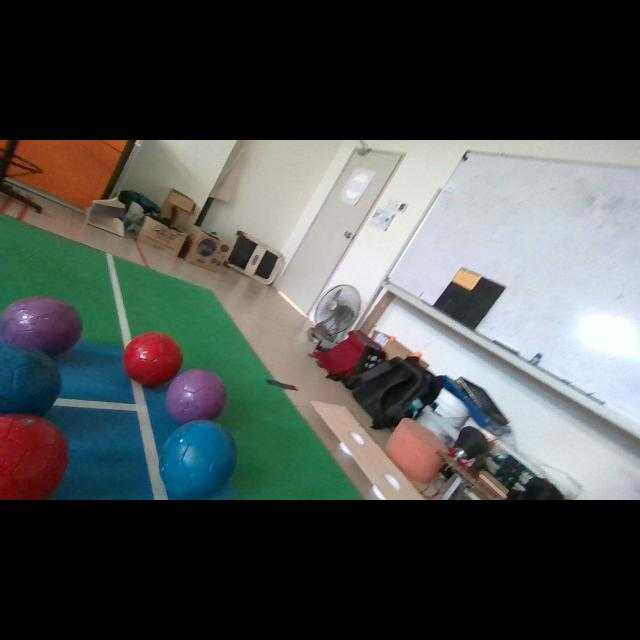B: (160, 420, 236, 499), (0, 346, 61, 416)
P: (0, 296, 82, 356), (166, 370, 226, 423)
R: (0, 414, 68, 499), (122, 331, 182, 386)
